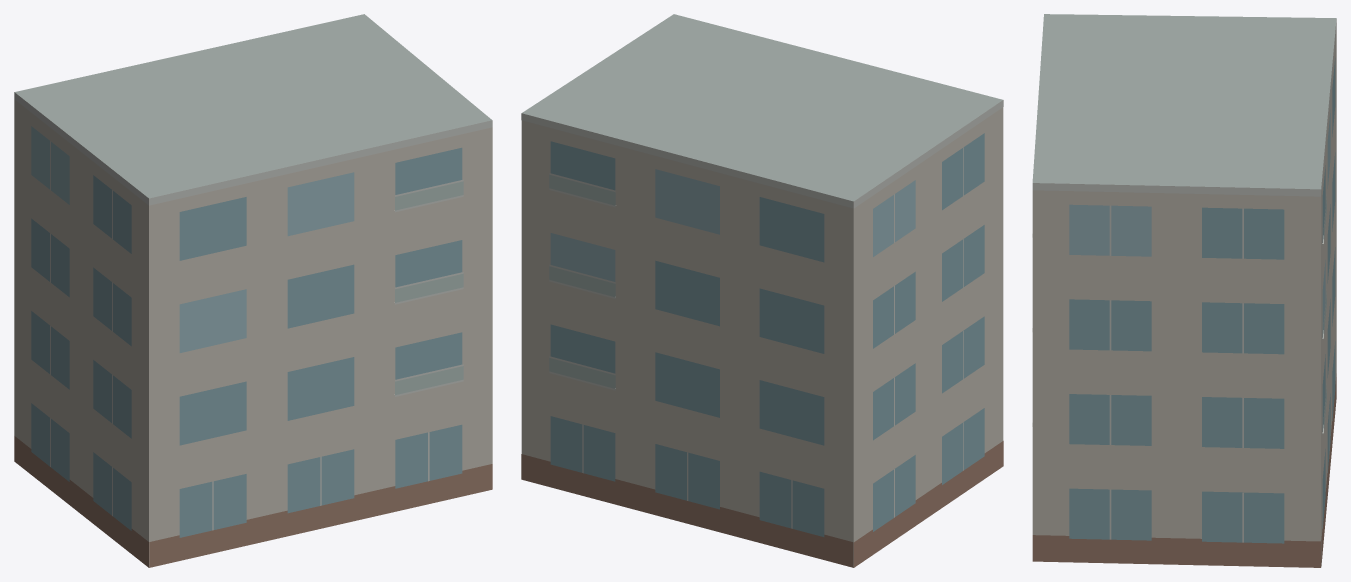
The model's file is survey-upis-32664941.glb.
3 renders of one model, left to right at view 1: azimuth 30°, elevation 25°; view 2: azimuth 150°, elevation 25°; view 3: azimuth 270°, elevation 25°, orthographic. The views are drawn at different scales.
Parts seen in each view (by area): view 1: survey-upis-32664941.tmp; view 2: survey-upis-32664941.tmp; view 3: survey-upis-32664941.tmp.
Boxes of the visible parts, x1=… form: survey-upis-32664941.tmp: x1=14, y1=14, x2=492, y2=567; survey-upis-32664941.tmp: x1=521, y1=14, x2=1003, y2=567; survey-upis-32664941.tmp: x1=1032, y1=14, x2=1336, y2=567.
Bounding box in the file's own units: 12.63 × 12.7 × 9.26.
